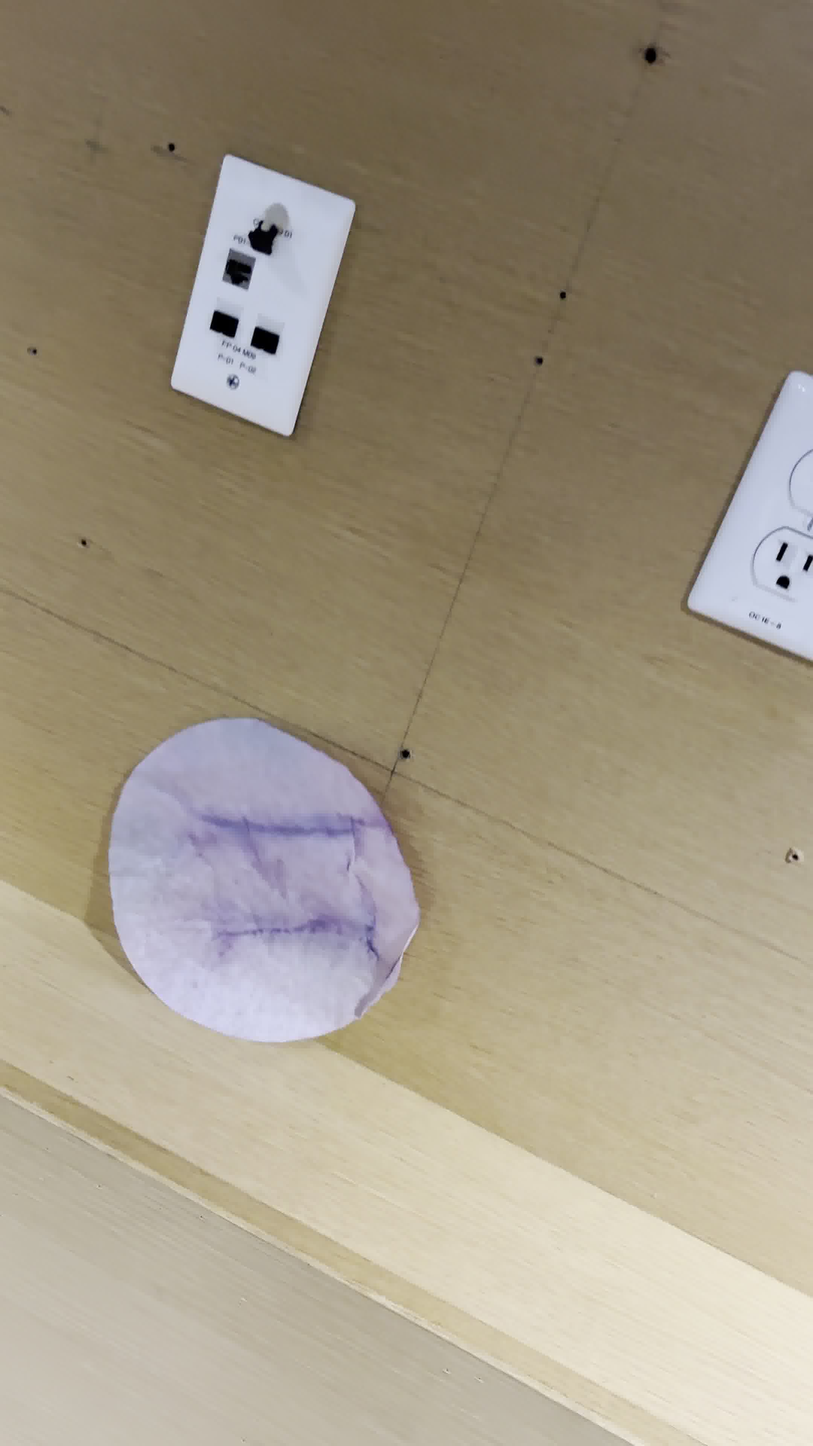Target: (107, 716, 419, 1044)
